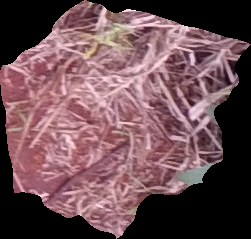soil: (2, 4, 250, 238)
